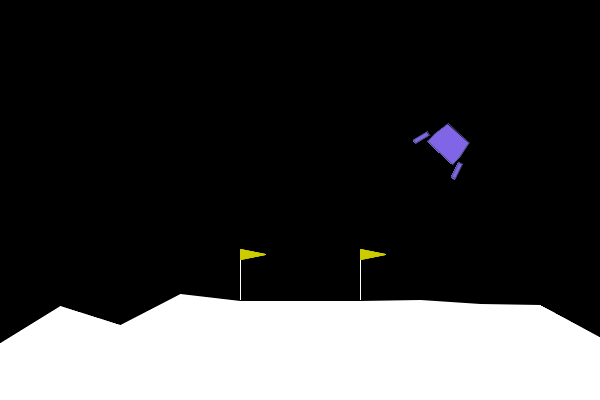lander: (410, 112, 482, 182)
